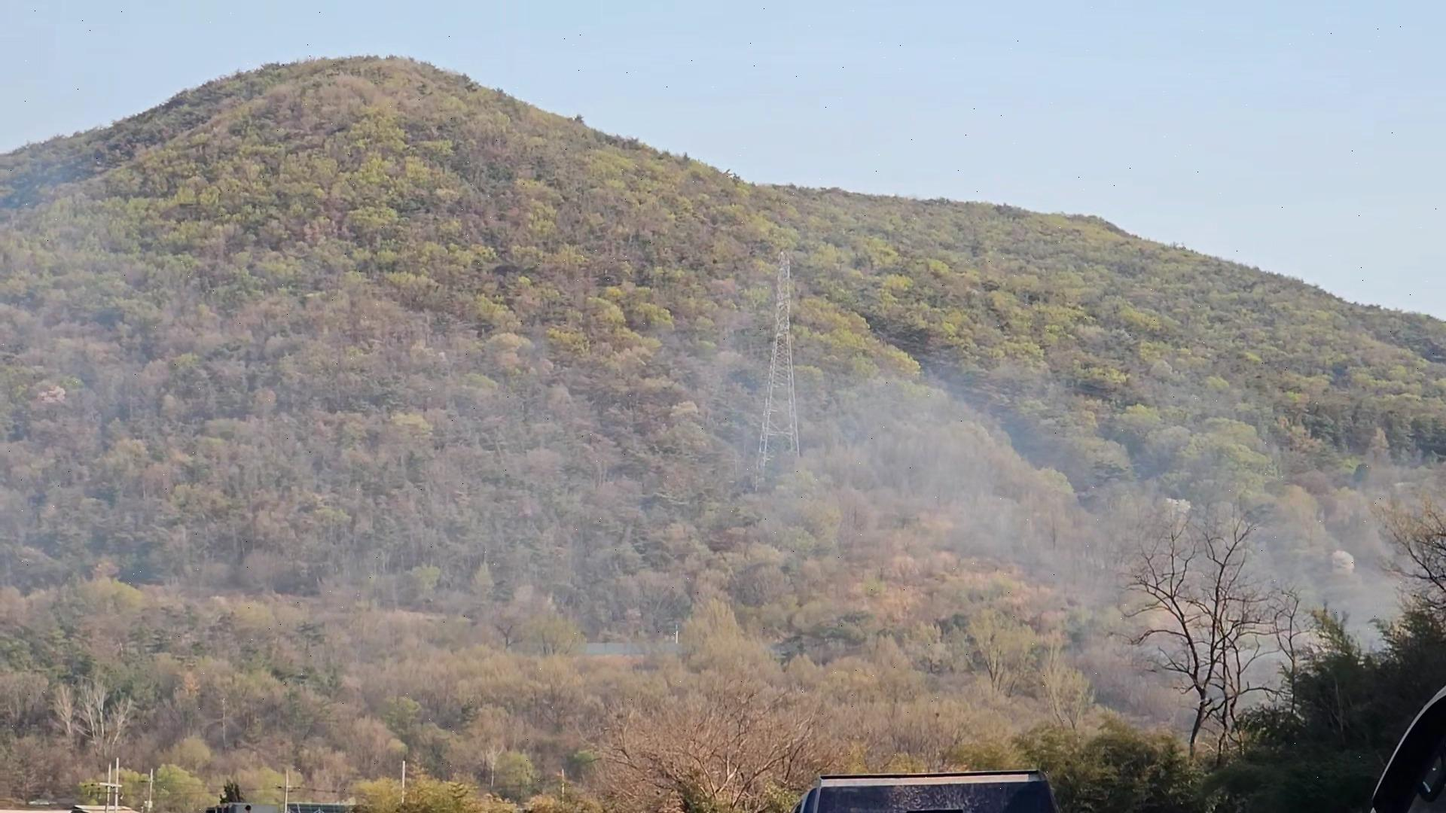smoke: (542, 369, 1428, 720)
